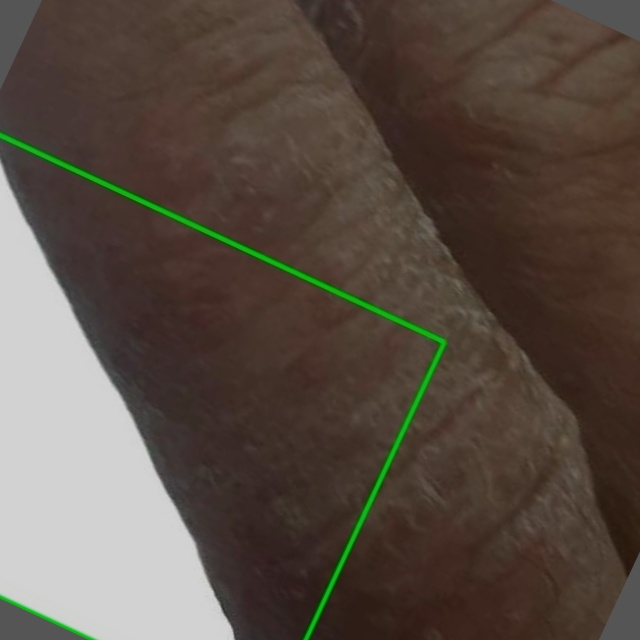Contact Dermatitis: (0, 135, 444, 639)
